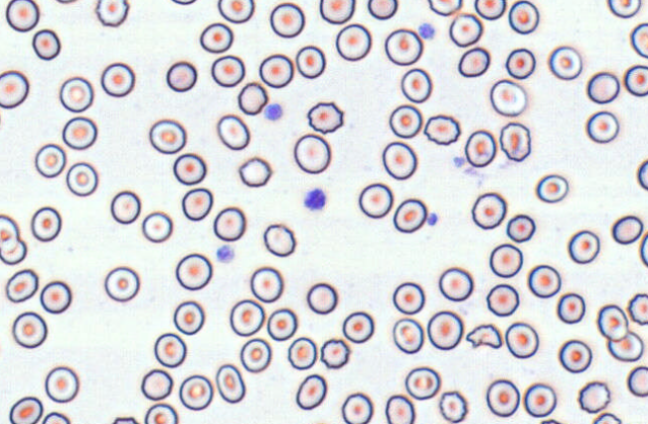PLT: (301, 188, 330, 211), (215, 244, 237, 264), (417, 21, 438, 41), (264, 103, 284, 122), (428, 212, 438, 227)
RBC: (293, 133, 331, 174), (426, 310, 463, 350), (384, 28, 422, 65), (381, 141, 417, 180), (175, 253, 212, 290), (489, 79, 526, 116), (335, 23, 371, 61), (148, 118, 186, 154), (11, 311, 47, 348), (44, 365, 79, 403), (485, 379, 520, 417), (269, 2, 305, 38), (104, 266, 140, 302), (471, 192, 506, 229), (229, 299, 264, 336), (499, 121, 531, 161), (178, 374, 213, 410), (358, 182, 393, 218), (504, 321, 538, 358), (100, 62, 135, 97), (258, 53, 293, 88), (448, 12, 483, 47), (438, 266, 473, 301), (59, 76, 93, 112), (404, 366, 440, 400), (464, 129, 496, 167), (215, 363, 245, 403), (62, 116, 97, 150), (393, 198, 427, 233), (548, 45, 582, 80), (153, 332, 186, 368), (216, 114, 249, 150), (250, 266, 283, 302), (306, 101, 343, 133), (596, 304, 628, 341), (295, 373, 327, 410), (527, 264, 561, 298), (489, 243, 523, 277), (388, 104, 422, 138), (558, 339, 592, 373), (210, 54, 245, 87), (5, 268, 38, 303), (523, 382, 556, 417), (567, 229, 600, 264), (400, 67, 432, 103), (423, 114, 460, 145), (392, 317, 423, 354), (0, 69, 29, 108), (172, 152, 206, 185), (577, 380, 611, 413), (585, 110, 619, 143), (34, 143, 66, 178), (213, 206, 245, 241), (66, 161, 98, 196), (239, 337, 271, 372), (607, 330, 643, 361), (486, 283, 519, 316), (5, 0, 39, 32), (181, 187, 213, 221), (39, 280, 71, 314), (586, 71, 620, 103), (30, 206, 61, 241), (173, 300, 204, 335), (140, 368, 173, 400), (263, 223, 295, 256), (392, 281, 424, 314), (342, 310, 374, 343), (237, 81, 268, 115), (199, 22, 233, 53), (266, 307, 297, 341), (508, 0, 539, 34), (238, 156, 271, 187), (457, 46, 490, 77), (110, 190, 140, 224), (287, 336, 317, 370), (141, 210, 172, 242), (166, 60, 197, 92), (306, 282, 337, 314), (341, 392, 373, 423), (295, 45, 325, 78), (535, 173, 568, 203), (611, 214, 643, 244), (320, 337, 350, 369), (505, 47, 535, 79), (438, 390, 467, 423), (8, 396, 43, 423), (384, 394, 415, 424), (556, 292, 585, 323), (32, 28, 60, 60), (95, 0, 129, 26), (319, 0, 355, 24), (217, 0, 254, 23), (506, 213, 535, 242), (624, 64, 647, 96), (0, 213, 19, 251), (144, 403, 178, 424), (0, 238, 26, 265), (626, 365, 647, 397), (627, 292, 647, 325), (474, 0, 506, 20), (607, 0, 641, 18), (630, 22, 647, 58), (367, 0, 397, 19), (427, 0, 462, 16), (41, 411, 71, 424), (591, 412, 622, 424), (636, 158, 647, 190), (639, 230, 648, 267), (111, 416, 139, 424), (538, 418, 565, 424), (169, 0, 197, 5), (305, 420, 335, 424), (54, 0, 80, 4), (0, 330, 3, 362), (0, 106, 3, 132)
Schistocyte: (464, 321, 504, 352)
